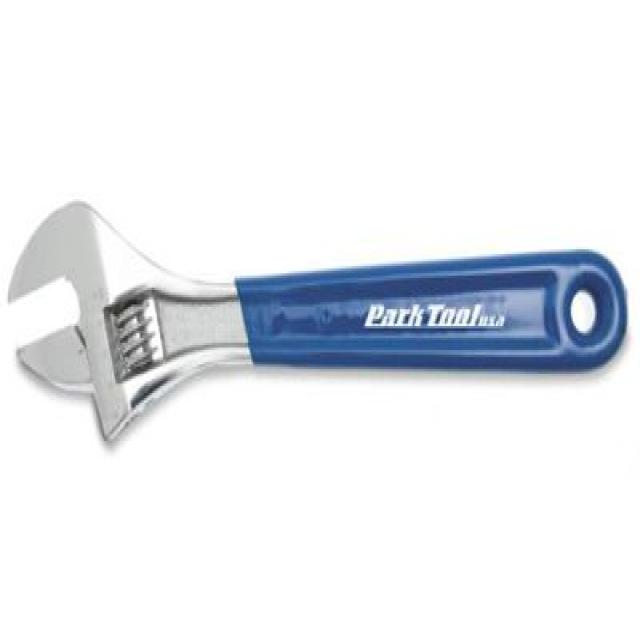wrench: (4, 174, 640, 452)
